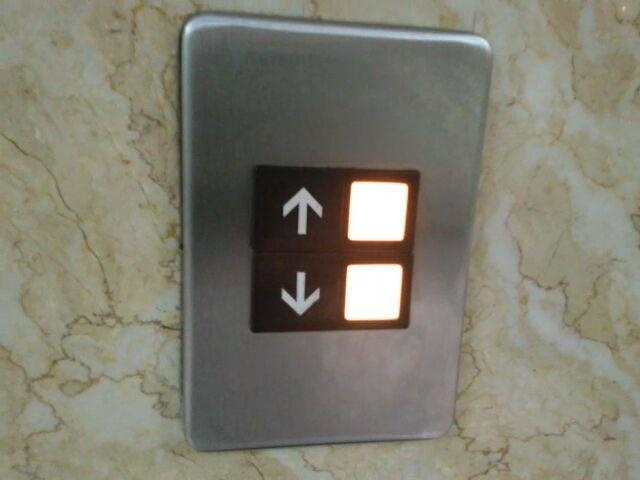down: (244, 248, 415, 335)
up: (246, 162, 424, 256)
